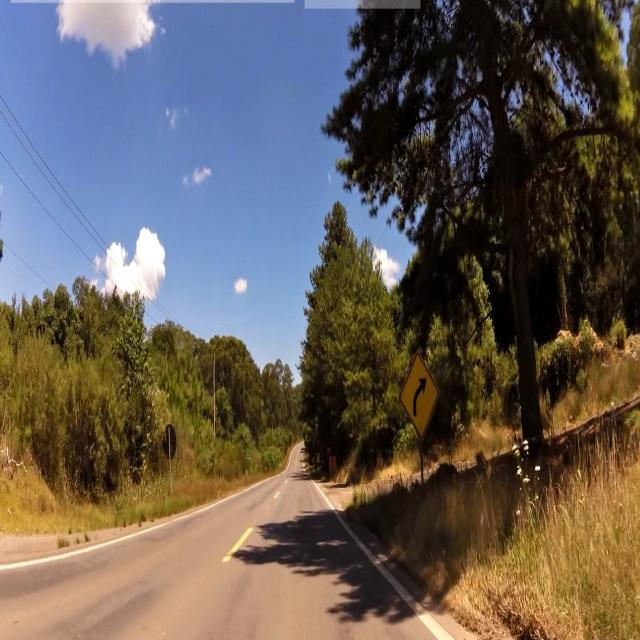A-2b: (394, 350, 443, 438)
